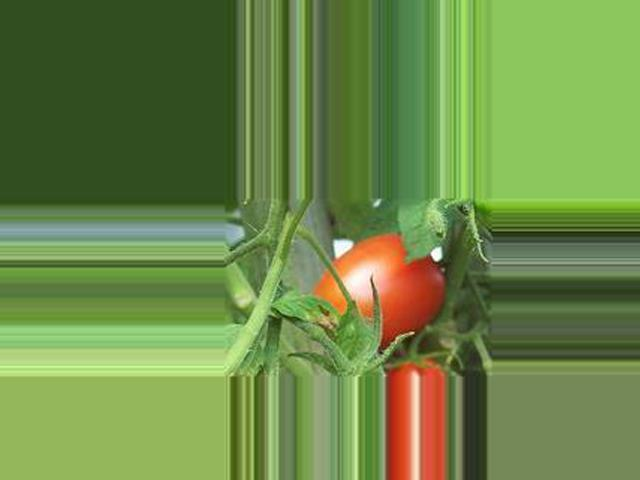tomato: (316, 233, 445, 344)
